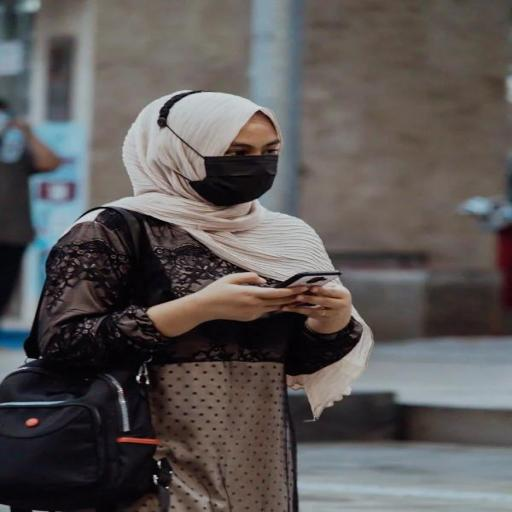mask: (127, 86, 356, 214)
